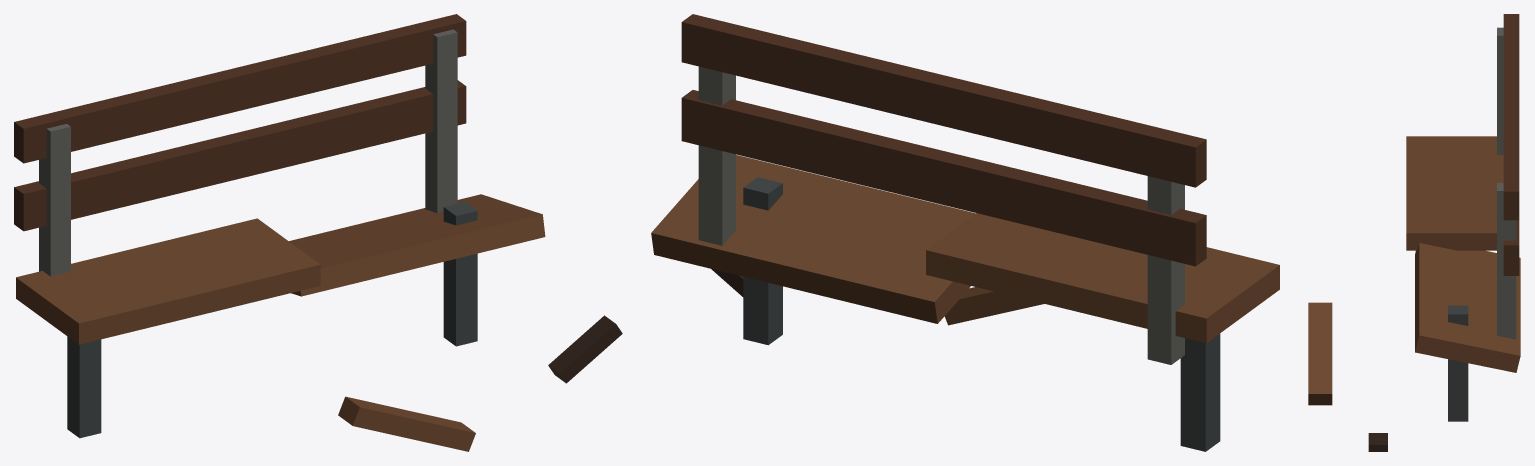
File: Broken_Waiting_Bench.obj
3 renders of one model, left to right at view 1: azimuth 30°, elevation 25°; view 2: azimuth 150°, elevation 25°; view 3: azimuth 270°, elevation 25°, orthographic. The views are drawn at different scales.
Size of the model in its own units: 2.05 by 1.19 by 0.8785.
